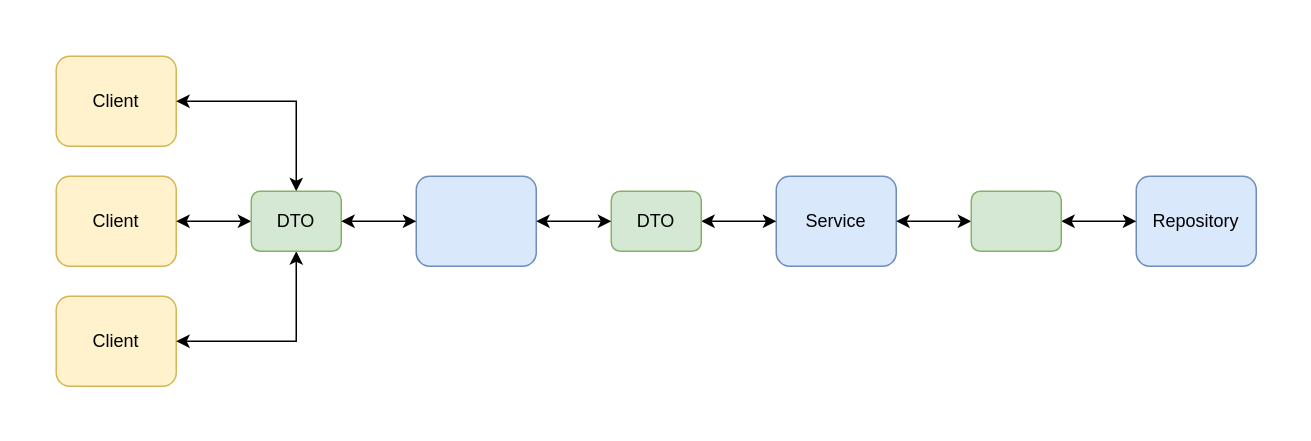
Image size: 1311x441. Some labels were removed from this diagram. The shapes that lost their labels are listed below. From the top down, each one's centre as x and y in pixels, then its label:
At [475,220]: "Controller".
At [1015,220]: "Entity".
